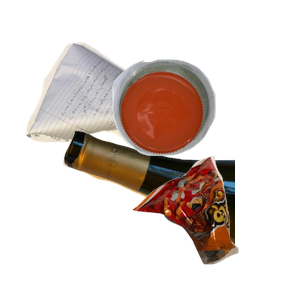glass: (60, 128, 300, 300)
paper: (23, 40, 223, 180)
plastic: (110, 57, 300, 205)
trash: (130, 153, 300, 300)
